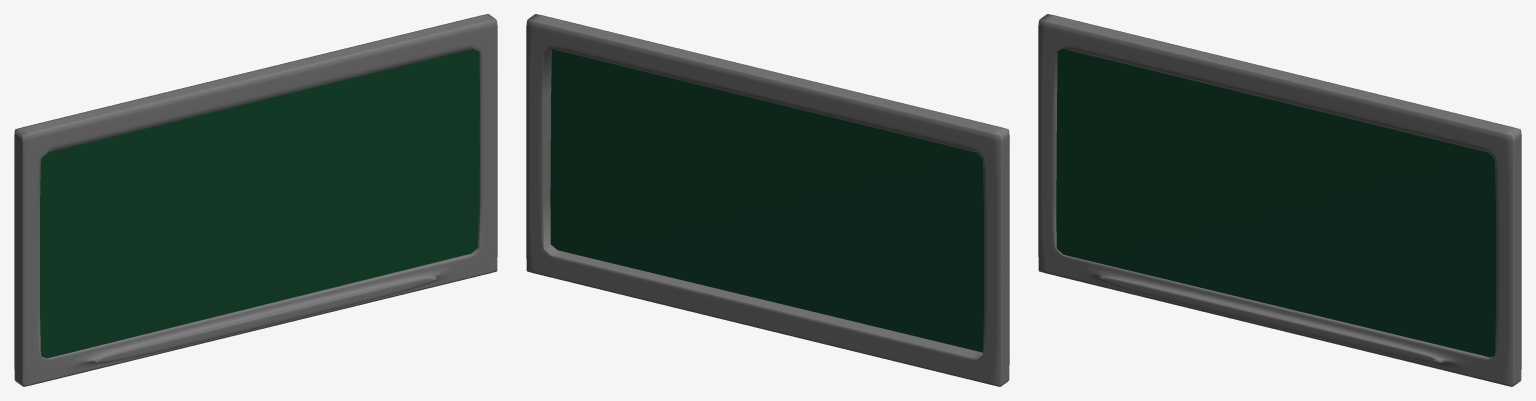
The model's file is Board 1.fbx.
The picture shows the model from 3 angles, left to right: view 1: azimuth 30°, elevation 25°; view 2: azimuth 150°, elevation 25°; view 3: azimuth 330°, elevation 25°; orthographic projection.
Visible parts, largest first — view 1: Board; view 2: Board; view 3: Board.
Boxes of the visible parts, bbox=[...] form: Board: bbox=[14, 14, 497, 386]; Board: bbox=[526, 14, 1009, 386]; Board: bbox=[1038, 14, 1521, 386].
Size of the model in its own units: 715 by 362 by 40.2.
